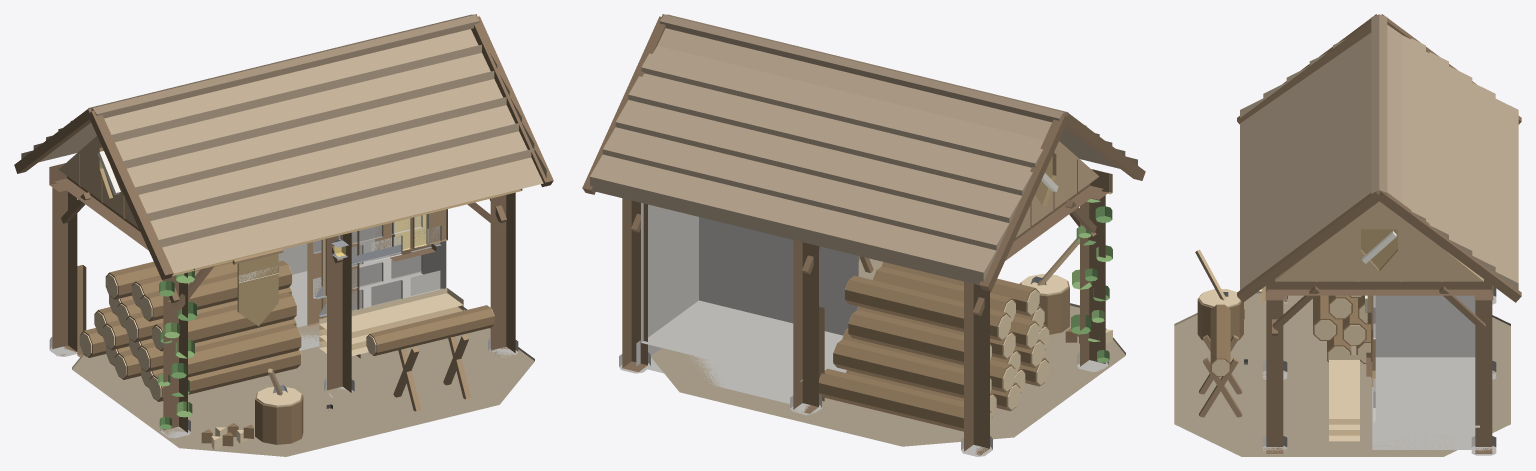
The model's file is lumber_camp_2.glb.
The picture shows the model from 3 angles, left to right: view 1: azimuth 30°, elevation 25°; view 2: azimuth 150°, elevation 25°; view 3: azimuth 270°, elevation 25°; orthographic projection. The views are drawn at different scales.
Visible parts, largest first — view 1: Ground, Roof, Roof#2, Roof#3, Roof#4, Roof#5, Roof#6, Roof.Ridge, Post#6, Post, Post#3, Log#10 (+29 smaller); view 2: Room, Roof#7, Ground, Roof#8, Roof#9, Roof#10, Roof#11, Roof#12, Roof.Ridge, Log, Post#4, Post#6 (+17 smaller); view 3: Ground, Room, Gable, Roof#7, Roof#8, Roof#9, Roof#11, Roof, Roof#2, Roof#10, Roof#3, Roof#4 (+26 smaller).
Boxes of the visible parts, x1,y1,x2,y2 form: Ground: (72, 307, 534, 456); Roof: (157, 148, 546, 273); Roof#2: (144, 122, 534, 239); Roof#3: (134, 96, 521, 213); Roof#4: (123, 71, 509, 187); Roof#5: (111, 44, 497, 160); Roof#6: (104, 29, 478, 134); Roof.Ridge: (88, 14, 479, 118); Post#6: (52, 163, 77, 355); Post: (490, 192, 515, 356); Post#3: (327, 232, 351, 392); Log#10: (188, 323, 301, 377); Room: (641, 203, 858, 381); Roof#7: (590, 154, 996, 284); Ground: (651, 258, 1125, 446); Roof#8: (602, 127, 1009, 252); Roof#9: (615, 100, 1021, 224); Roof#10: (628, 73, 1032, 195); Roof#11: (641, 46, 1043, 167); Roof#12: (657, 28, 1051, 140); Roof.Ridge: (659, 14, 1068, 122); Log: (819, 368, 991, 431); Post#4: (793, 240, 818, 413); Post#6: (964, 281, 989, 455); Ground: (1174, 291, 1510, 456); Room: (1375, 295, 1479, 427); Gable: (1275, 201, 1483, 281); Roof#7: (1495, 99, 1518, 291); Roof#8: (1472, 82, 1495, 273); Roof#9: (1449, 66, 1472, 256); Roof#11: (1402, 35, 1425, 221); Roof: (1240, 98, 1263, 289); Roof#2: (1263, 82, 1286, 272); Roof#10: (1426, 51, 1448, 239); Roof#3: (1286, 66, 1309, 254); Roof#4: (1309, 52, 1332, 237).
Bounding box in the file's own units: 5.46 × 3.91 × 4.49.
